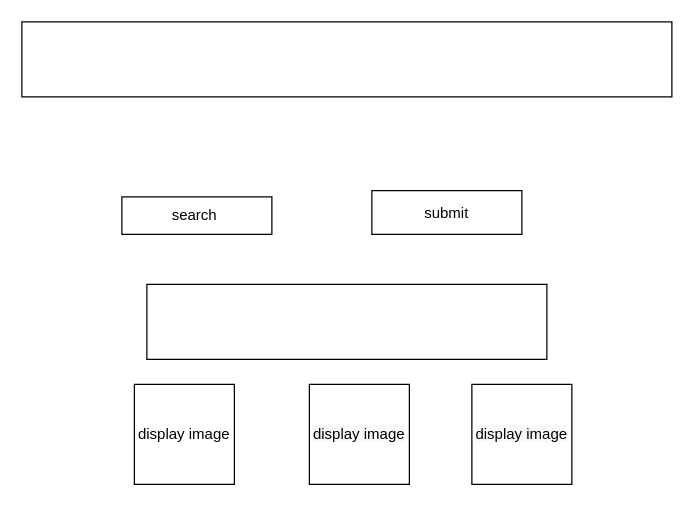
Some shapes in this 694 by 506 pixel diagram are drawn without their labels. Here are the shapes that lost their labels. From the top down, the centre of each, then its label:
At [346,59]: "NBA Players' Profile".
At [346,321]: "stats".
